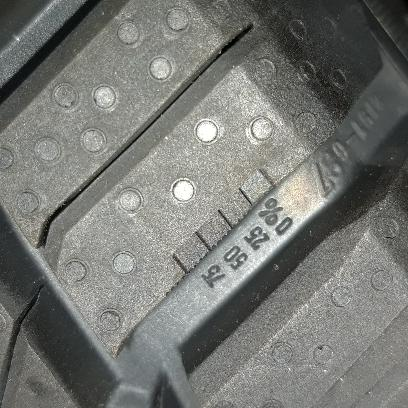temoin:100: (164, 168, 278, 292)
